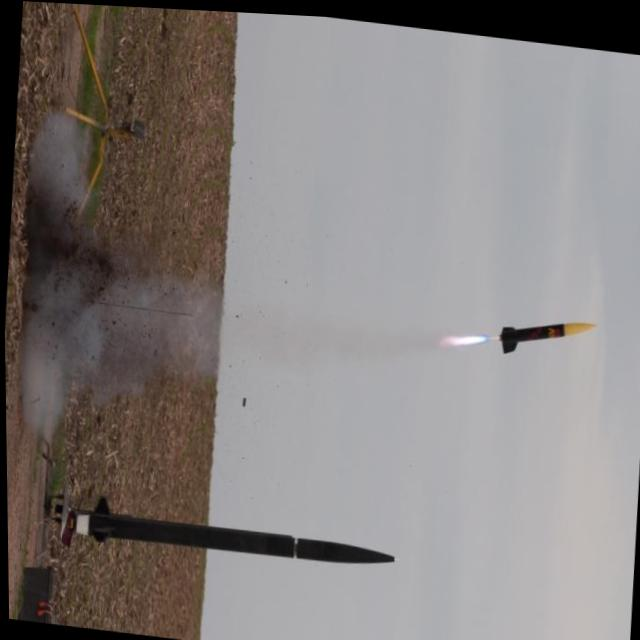missile: (64, 490, 402, 589), (478, 298, 599, 369)
